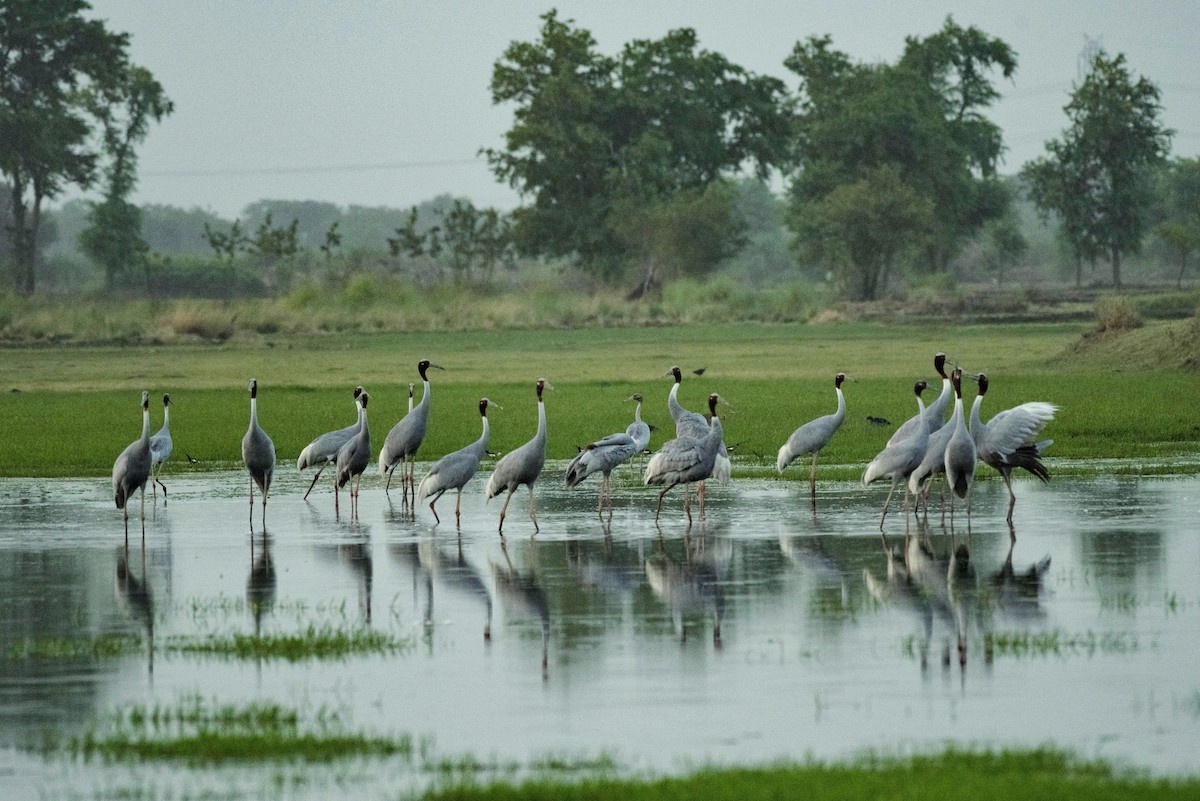crane: (971, 371, 1048, 522), (649, 389, 734, 521), (379, 356, 450, 514), (488, 378, 562, 525), (872, 377, 938, 539), (782, 372, 870, 492), (423, 393, 505, 521), (239, 374, 287, 518), (329, 395, 377, 514), (110, 385, 155, 501), (659, 362, 704, 437), (622, 391, 652, 450)
